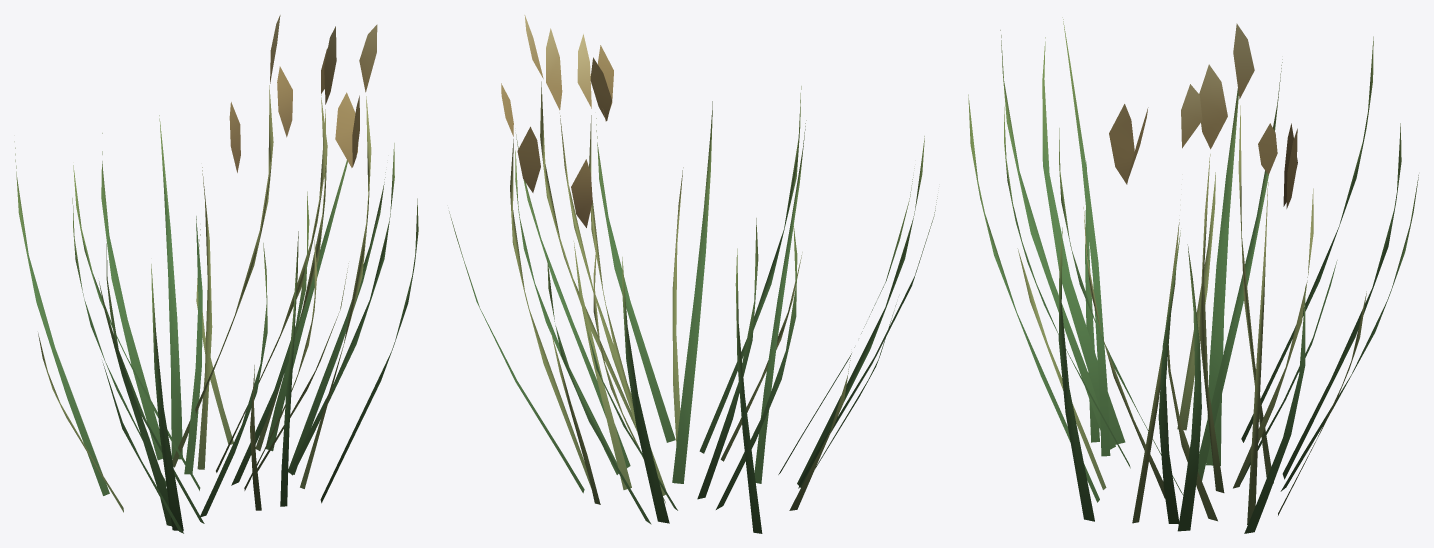
Rendered from TallMeadowClump_LOD0.glb.
3 views of the same model, side by side, from view 1: azimuth 30°, elevation 25°; view 2: azimuth 150°, elevation 25°; view 3: azimuth 270°, elevation 25° (orthographic). The views are drawn at different scales.
Visible parts, largest first — view 1: TallMeadowClump_LOD0; view 2: TallMeadowClump_LOD0; view 3: TallMeadowClump_LOD0.
Boxes of the visible parts, x1,y1,x2,y2 form: TallMeadowClump_LOD0: (14,15,418,533); TallMeadowClump_LOD0: (449,15,937,533); TallMeadowClump_LOD0: (968,17,1418,533).
Size of the model in its own units: 0.44 by 0.5055 by 0.4008.
